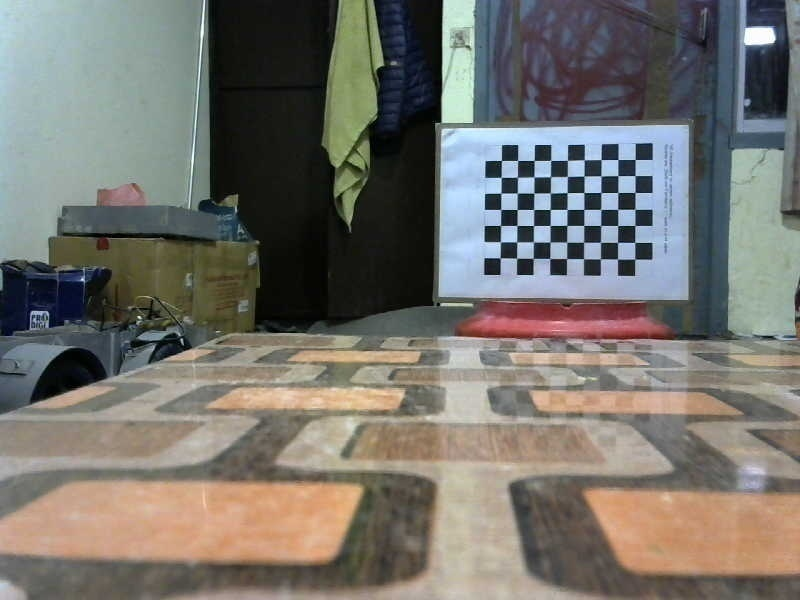block: (436, 123, 698, 298)
